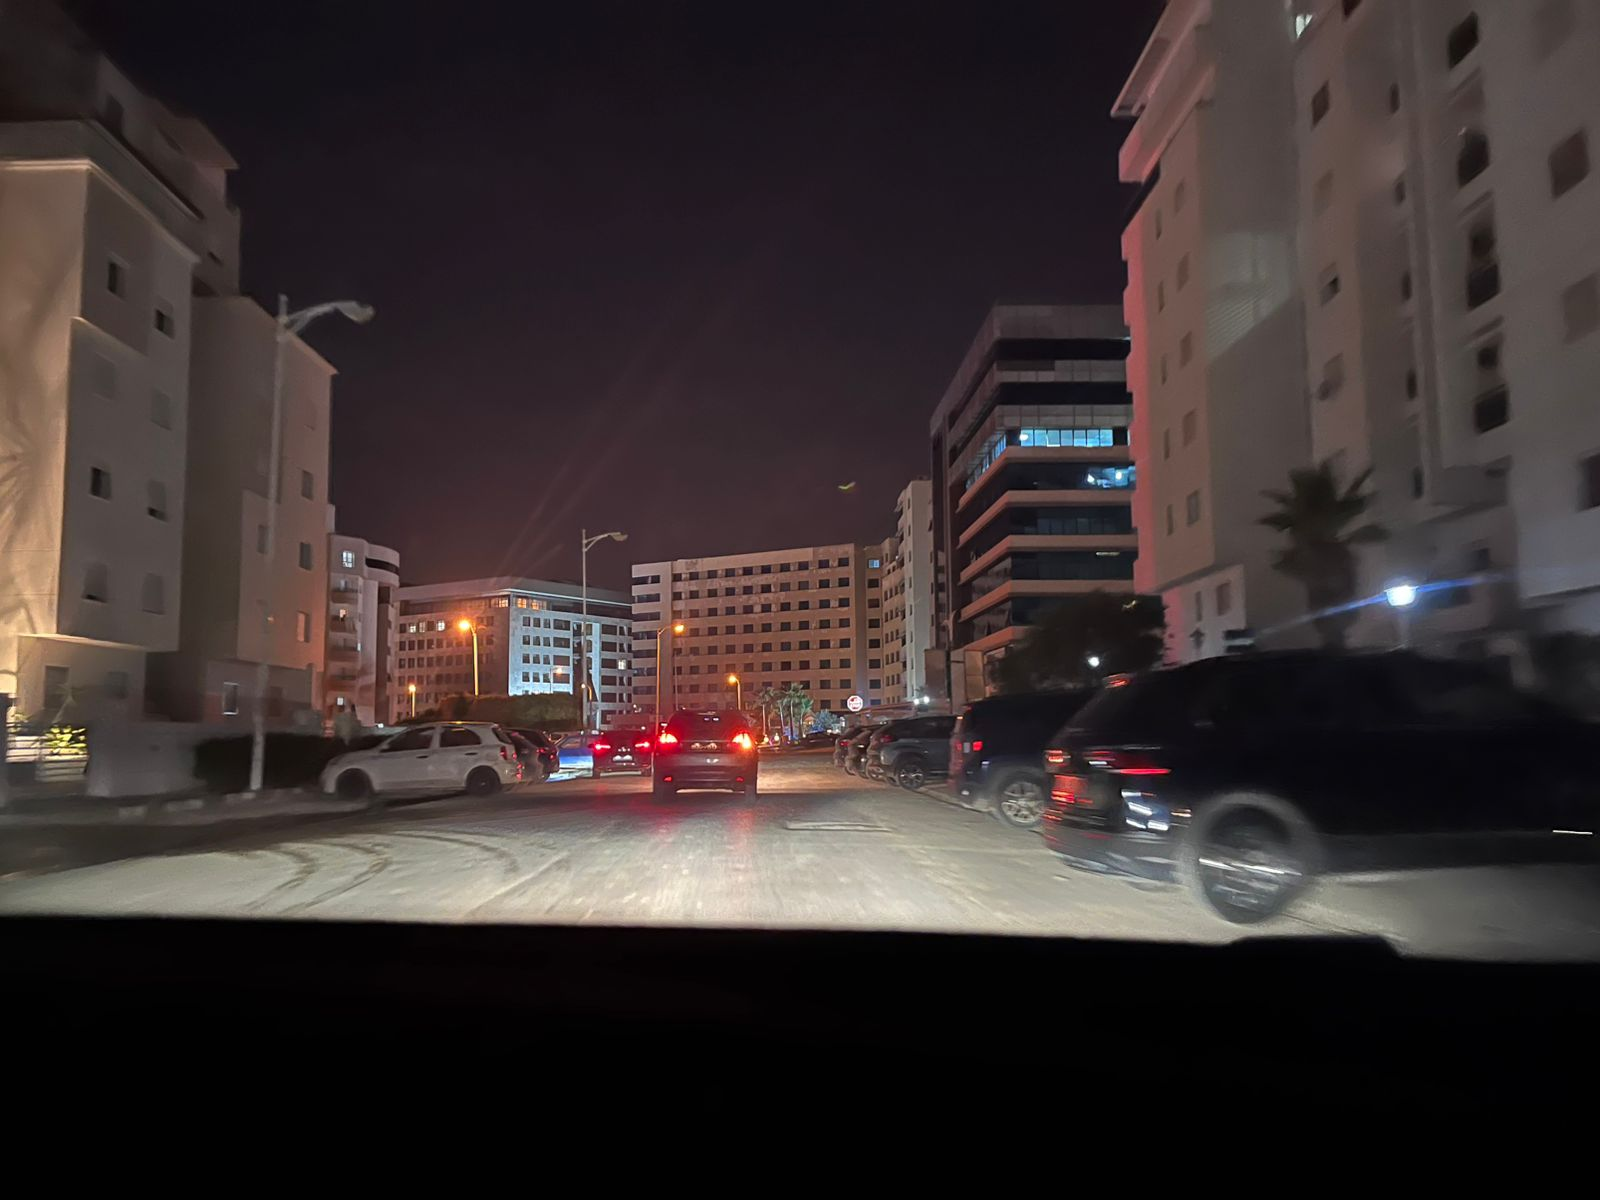Stop: (846, 695, 864, 712)
